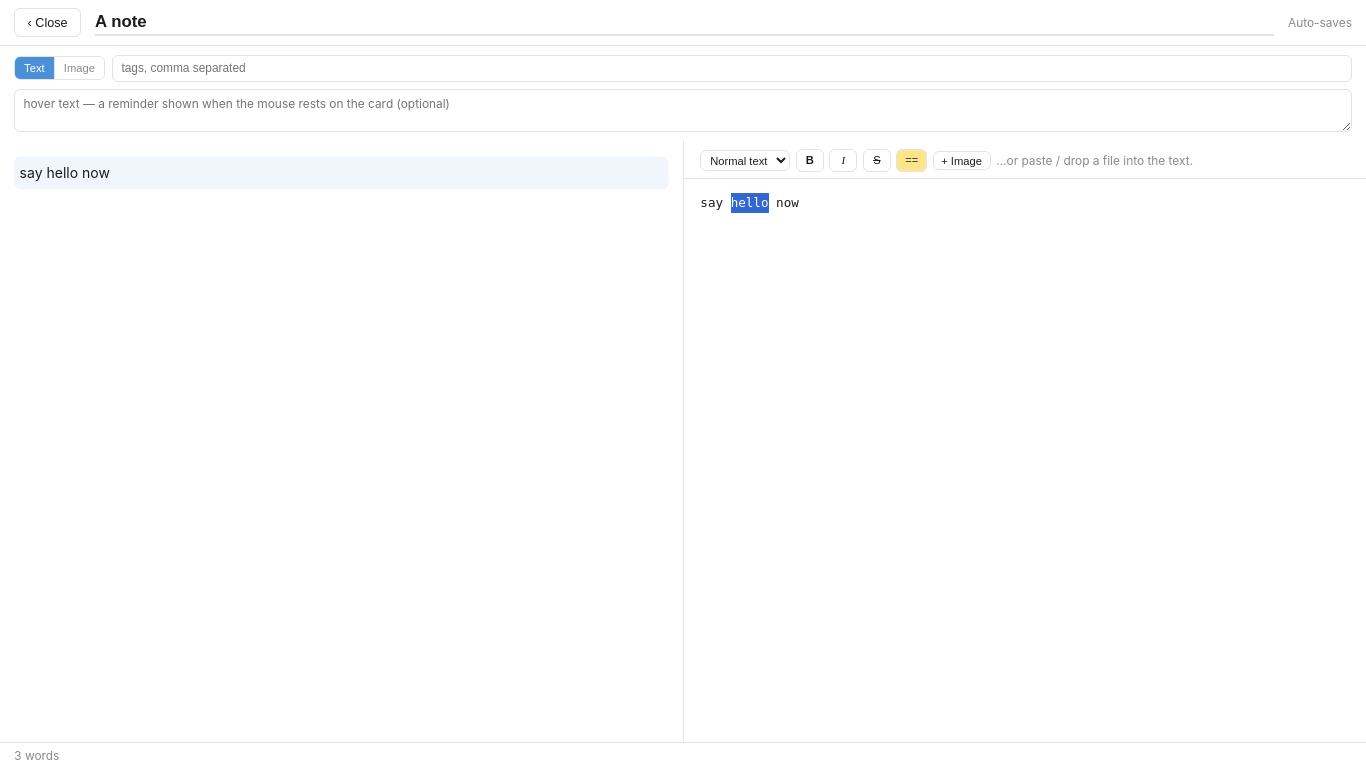
Test case: formatting toolbar › wraps the selected text in bold
The width and height of the screenshot is (1366, 768).
Expected: the text box with placeholder "Write in Markdown…" holds "say hello now", [684,179,1365,742]
Click the button named "Bold": click(810, 161) [796,149,824,172]
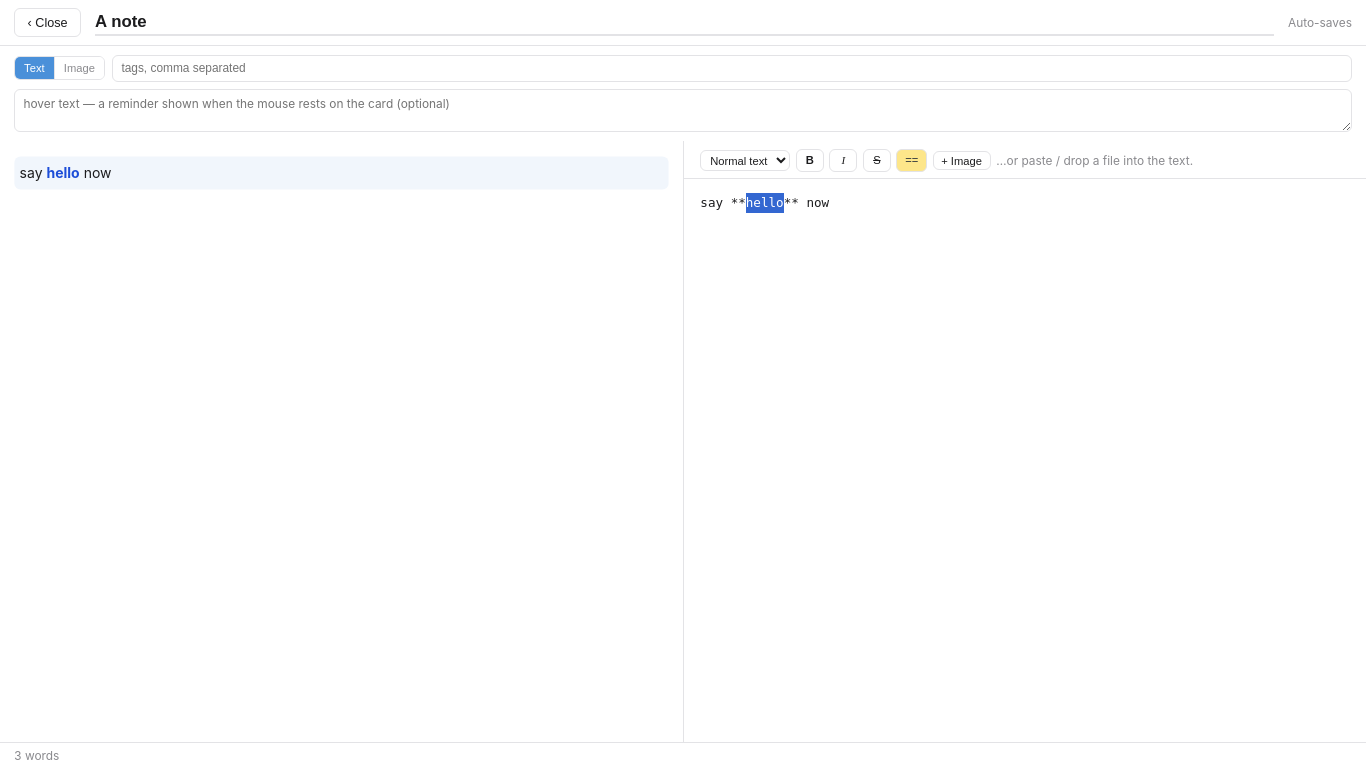
Now the text box with placeholder "Write in Markdown…" holds "say **hello** now", box [684,179,1365,742]
